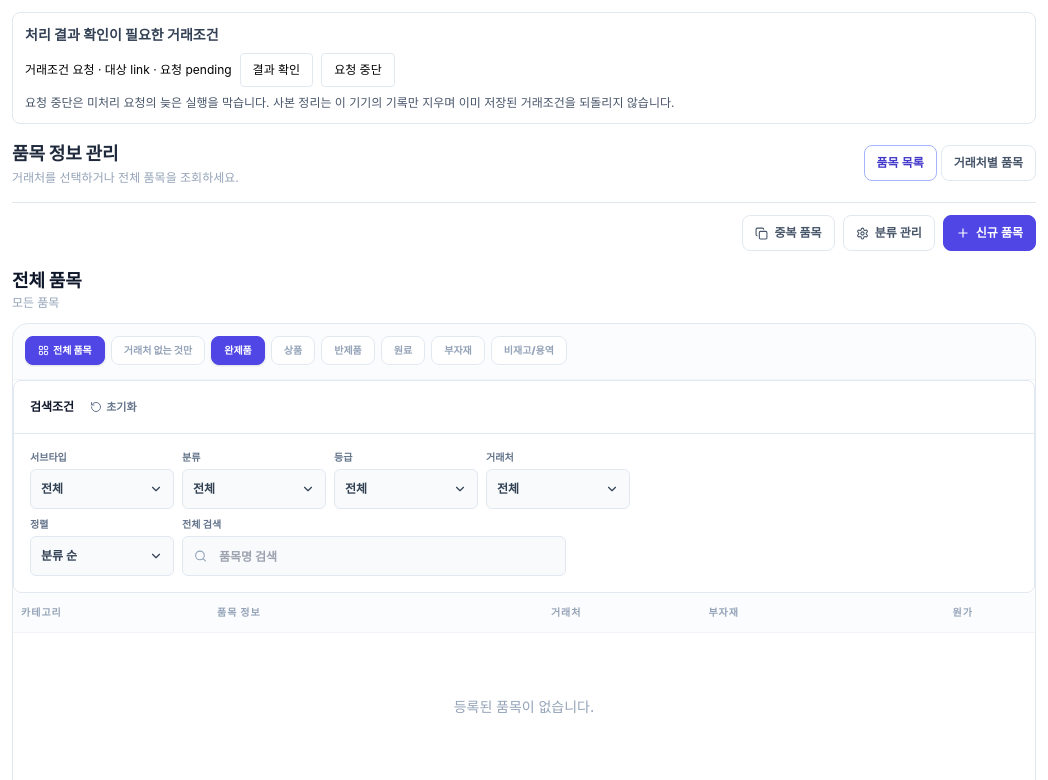
Test: 필터 밖·삭제된 거래조건도 실제 요청이 있을 때만 원래 reference로 결과 확인한다
Click the button "결과 확인".
click(276, 70)  # box [240,53,313,87]
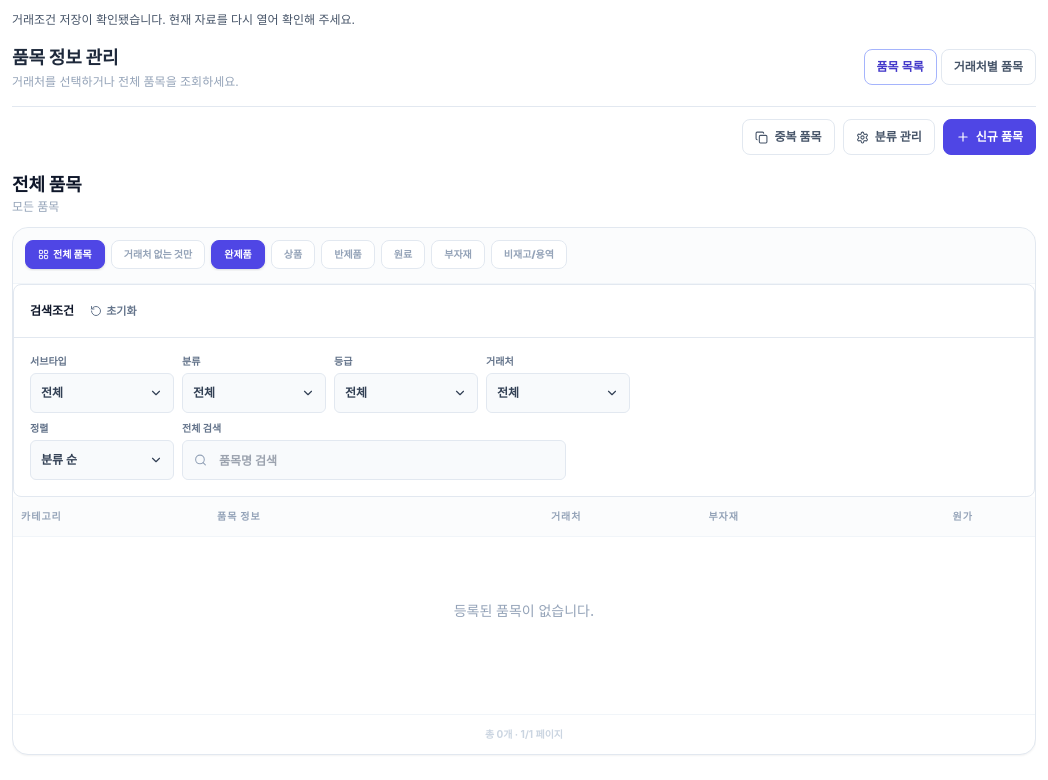
Expected: the heading "처리 결과 확인이 필요한 거래조건" is gone
